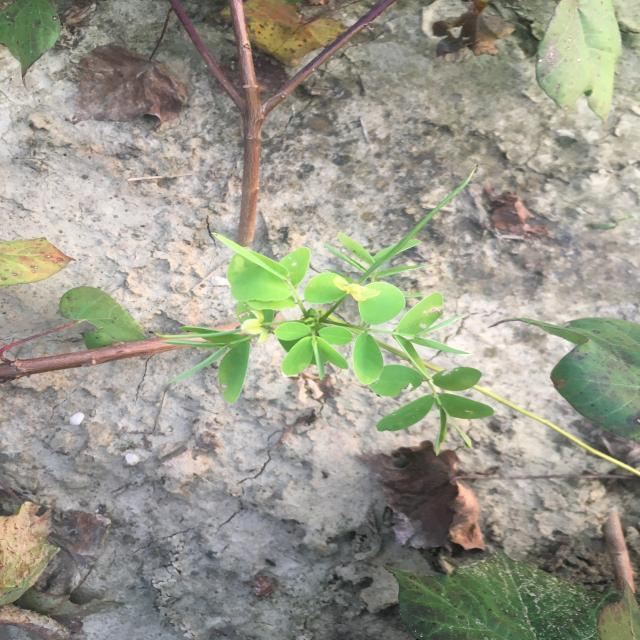Sicklepod: (153, 161, 497, 458)
